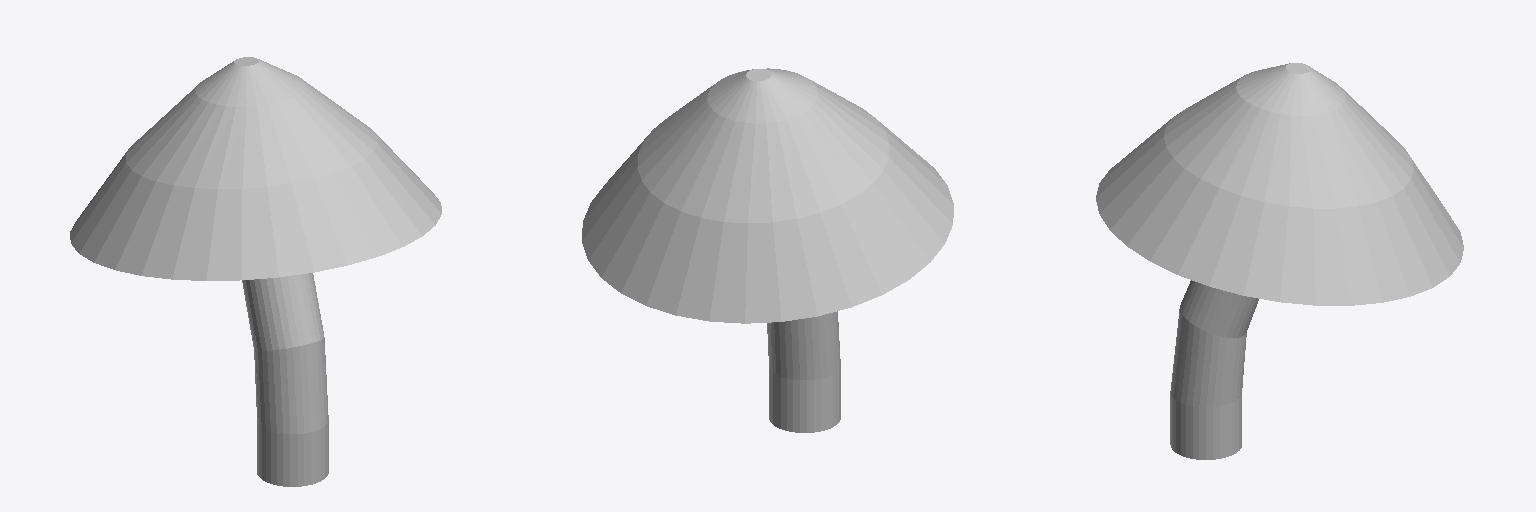
The model's file is hongo_1st.obj.
The picture shows the model from 3 angles: view 1: azimuth 30°, elevation 25°; view 2: azimuth 150°, elevation 25°; view 3: azimuth 270°, elevation 25°; orthographic projection.
Visible parts, largest first — view 1: Cylinder; view 2: Cylinder; view 3: Cylinder.
Part boxes in pixels (x1,y1,x2,y2): Cylinder: (70, 57, 441, 486); Cylinder: (582, 68, 953, 432); Cylinder: (1096, 63, 1463, 459).
Size of the model in its own units: 0.9184 by 1.02 by 0.9029.